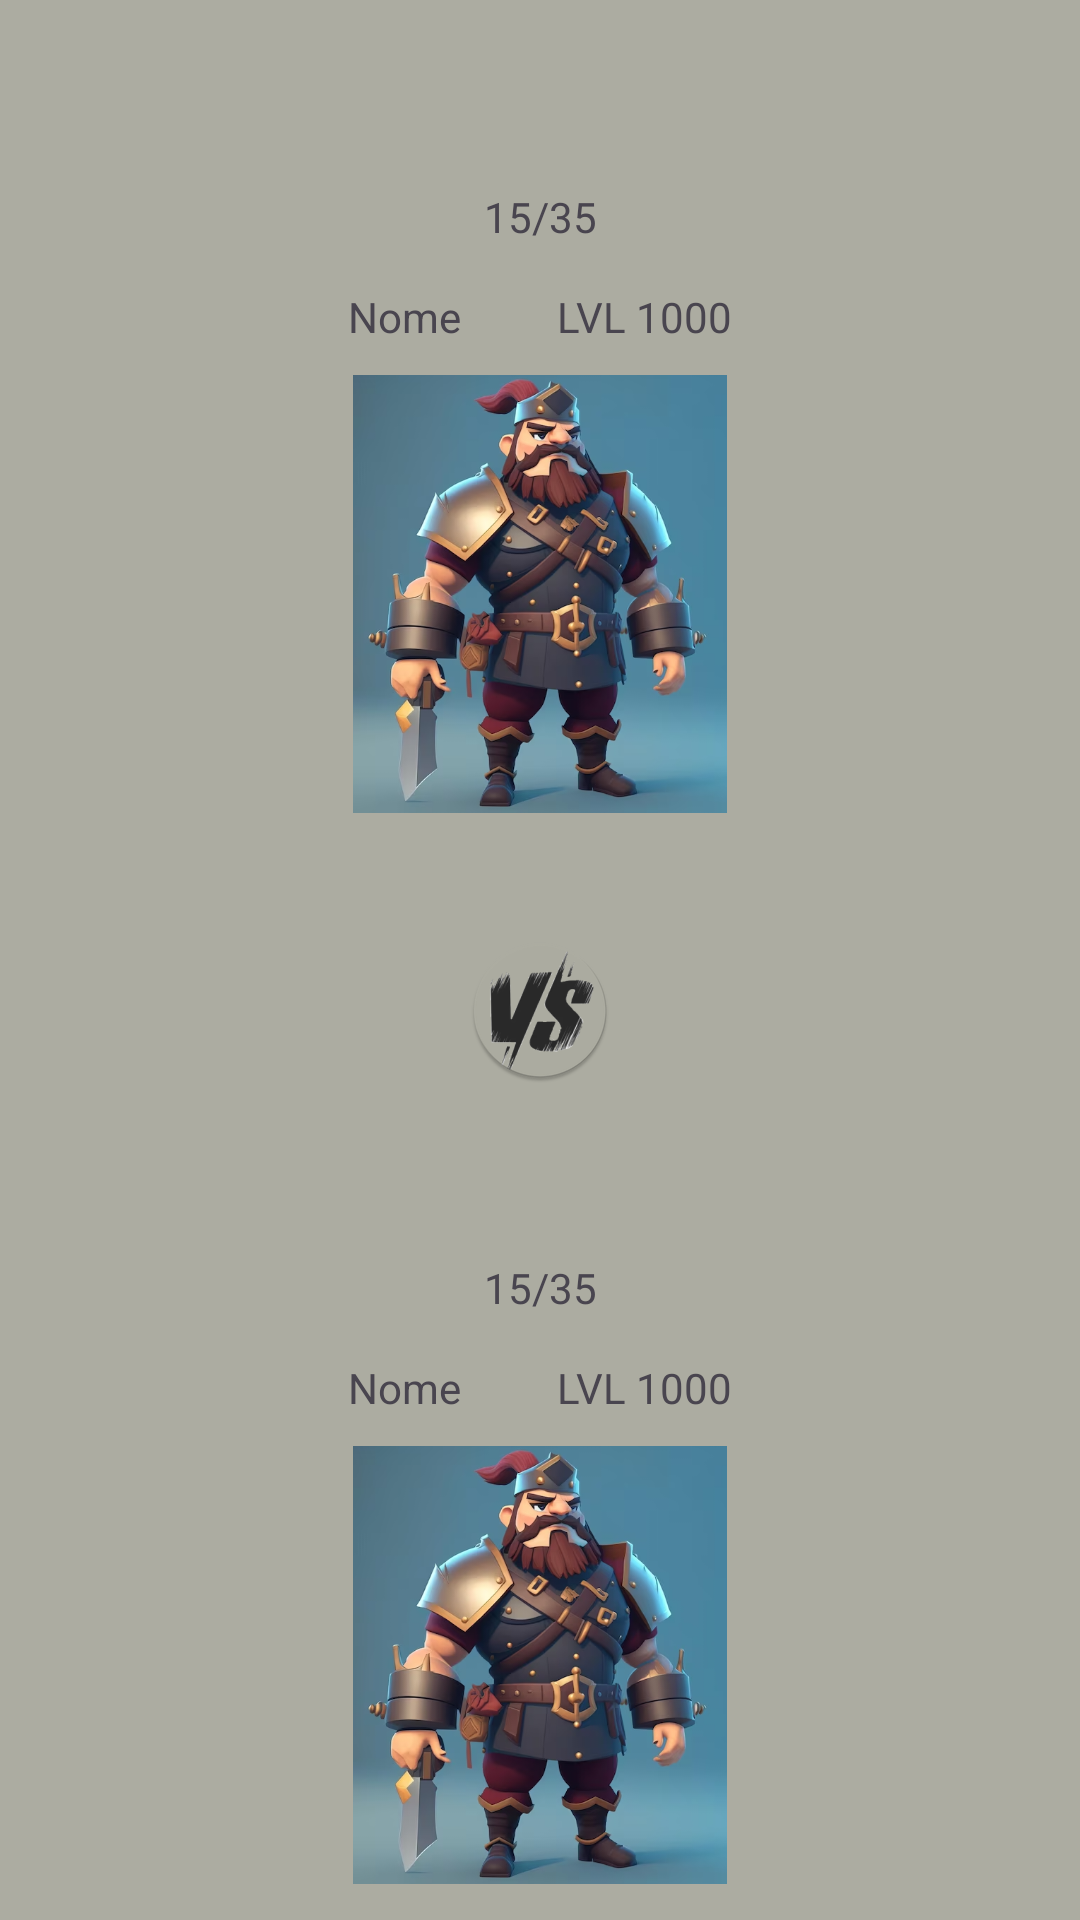

Icon click points for this 1080px×1920px phone screenshot, format (x,y):
versus round: (542,1017)
